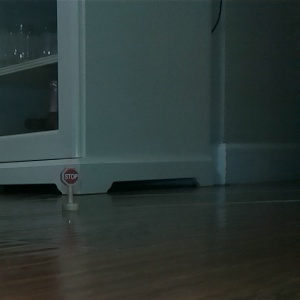stop sign: (58, 164, 81, 212)
